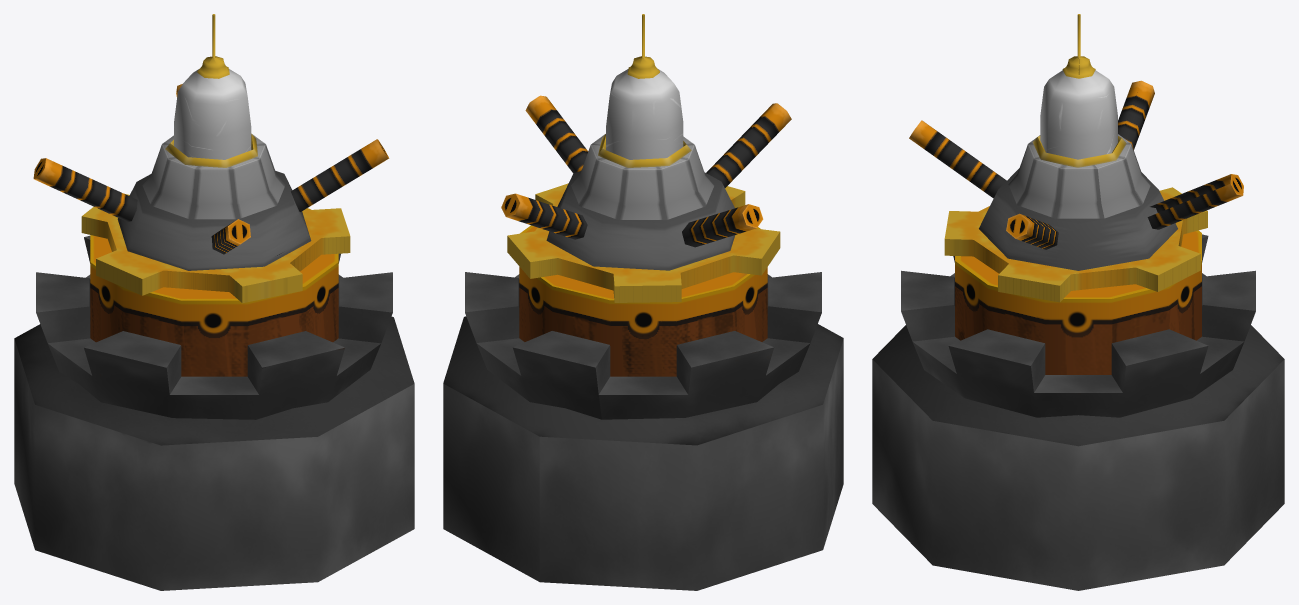
Rendered from Lightning tower 3.fbx.
3 views of the same model, side by side, from view 1: azimuth 30°, elevation 25°; view 2: azimuth 150°, elevation 25°; view 3: azimuth 270°, elevation 25° (orthographic).
Visible parts, largest first — view 1: L_Tower_3; view 2: L_Tower_3; view 3: L_Tower_3.
Part boxes in pixels (bbox=[...]): L_Tower_3: bbox=[14, 14, 414, 590]; L_Tower_3: bbox=[443, 14, 843, 590]; L_Tower_3: bbox=[872, 14, 1284, 590].
Bounding box in the file's own units: 105 × 137 × 105.
